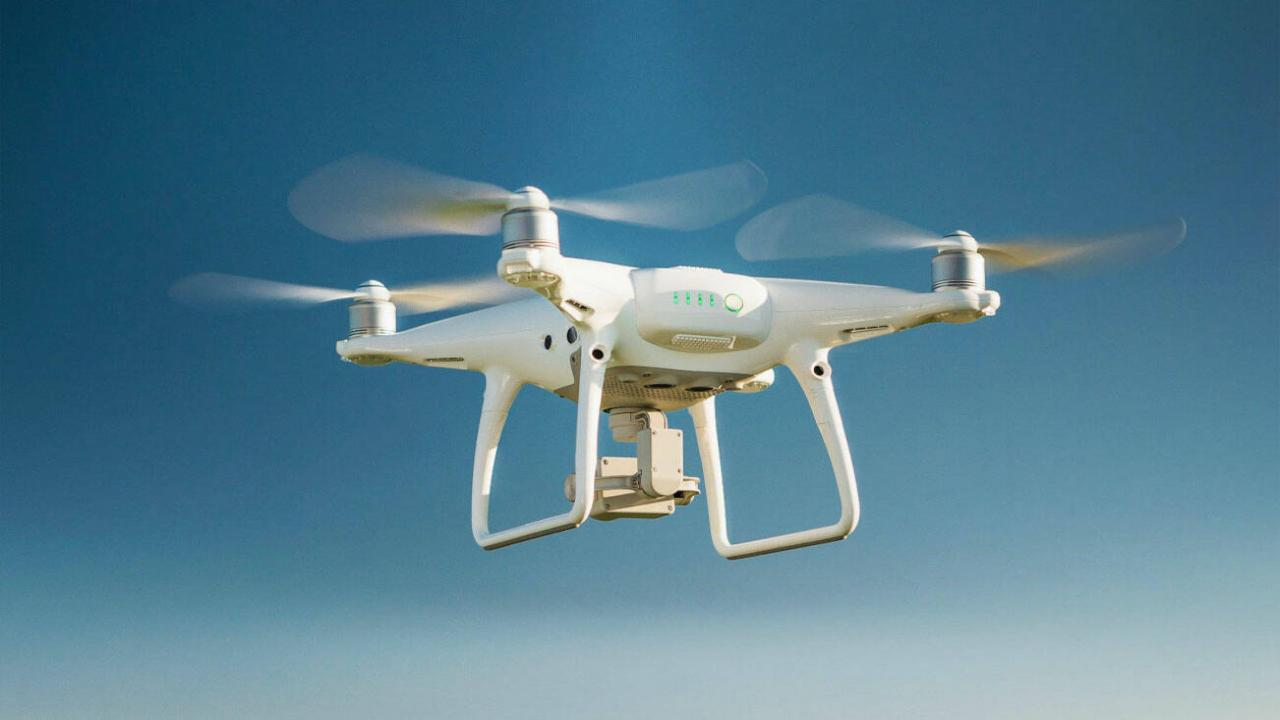Drone: (146, 127, 1216, 576)
